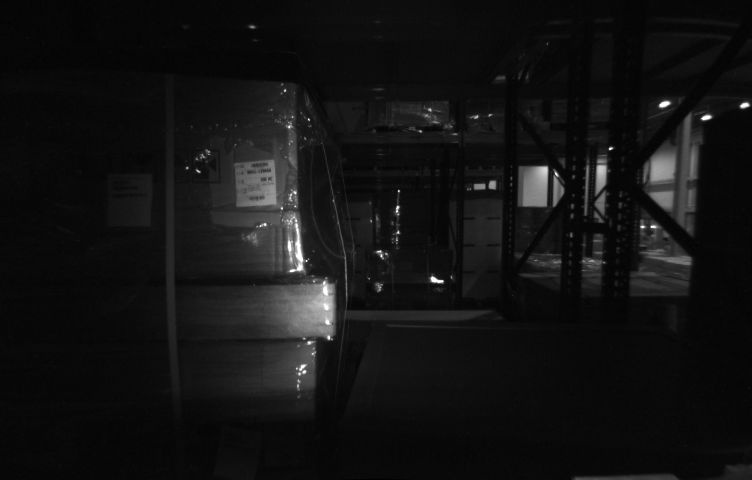True Barcode: (234, 160, 276, 206)
